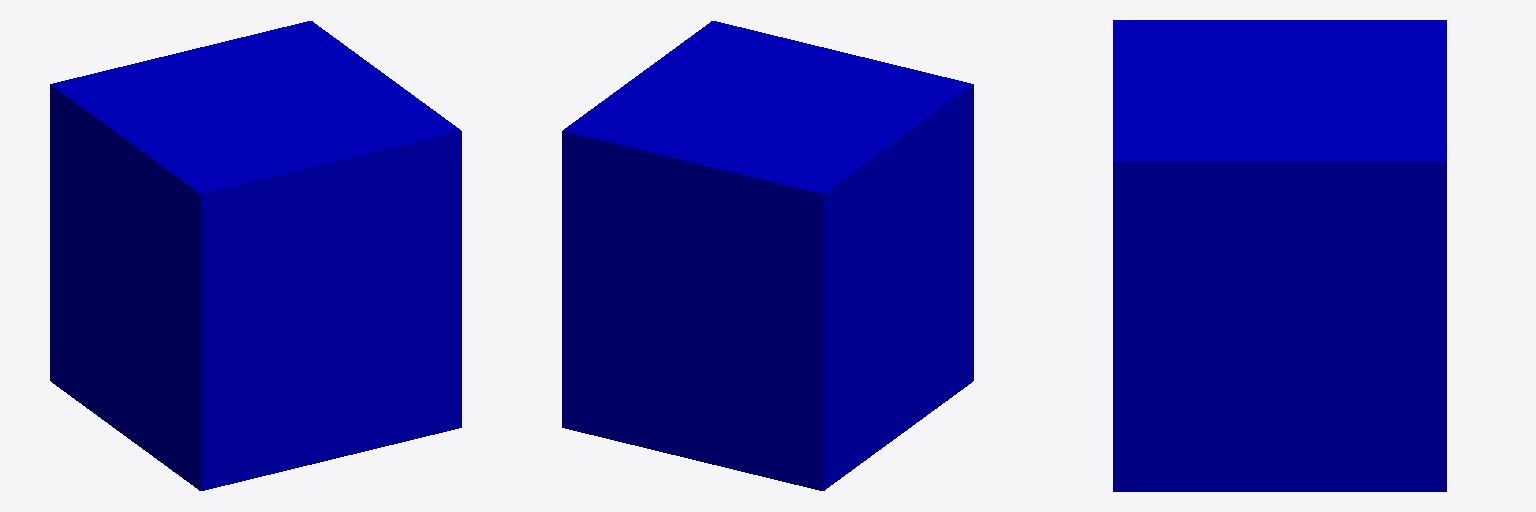
The robot description file, URDF, robot "issue838":
<?xml version="1.0" ?>

<robot name="issue838">
  <!-- end of arm links/joints -->
  <material name="Blue">
    <color rgba="0 0 0.8 1"/>
  </material>
  <material name="Red">
    <color rgba="1 0 0 1"/>
  </material>
  <material name="Yellow">
    <color rgba="1 1 0 1"/>
  </material>

  <link name="link_0">
    <inertial>
      <origin rpy="0 0 0" xyz="0 0 0"/>
      <mass value="10.0"/>
      <inertia ixx="0.1" ixy="0" ixz="0" iyy="0.1" iyz="0" izz="0.1"/>
    </inertial>
    <visual>
      <origin rpy="0 0 0" xyz="0 0 -0.087"/>
      <geometry>
        <box size="1 1 1"/>
      </geometry>
      <material name="Blue"/>
    </visual>
    <visual>
      <origin rpy="0 0 0" xyz="0 0 0"/>
      <geometry>
        <box size="1 1 1"/>
      </geometry>
      <material name="Blue"/>
    </visual>
  </link>
  <joint name="0_to_1" type="fixed">
    <parent link="link_0"/>
    <child link="link_1"/>
    <origin rpy="0 0 0" xyz="0 0 0"/>
  </joint>
  <link name="link_1">
    <visual>
      <origin rpy="0 0 0" xyz="0 0 -0.087"/>
      <geometry>
        <box size="1 1 1"/>
      </geometry>
      <material name="Red"/>
    </visual>
    <visual>
      <origin rpy="0 0 0" xyz="0 0 0"/>
      <geometry>
        <box size="1 1 1"/>
      </geometry>
      <material name="Red"/>
    </visual>
  </link>
  <joint name="1_to_2" type="revolute">
    <parent link="link_1"/>
    <child link="link_2"/>
    <limit effort="2.5" lower="-3.14159265359" upper="3.14159265359" velocity="3.00545697193"/>
    <origin rpy="0 0 0" xyz="0 0 0"/>
    <axis xyz="0 0 1"/>
  </joint>
  <link name="link_2">
    <inertial>
      <origin rpy="0 0 0" xyz="0 0 0"/>
      <mass value="0.855"/>
      <inertia ixx="0.001449225" ixy="0" ixz="0" iyy="0.00041553" iyz="0" izz="0.001449225"/>
    </inertial>
    <visual>
      <origin rpy="0 0 0" xyz="0 0 0"/>
      <geometry>
        <box size="1 1 1"/>
      </geometry>
      <material name="Yellow"/>
    </visual>
    <visual>
      <origin rpy="0 0 0" xyz="0 0 0"/>
      <geometry>
        <box size="1 1 1"/>
      </geometry>
      <material name="Yellow"/>
    </visual>
  </link>
  
</robot>

--- Facts derived from the render (not from the file) ---
The picture shows the robot from 3 angles, left to right: view 1: azimuth 30°, elevation 25°; view 2: azimuth 150°, elevation 25°; view 3: azimuth 270°, elevation 25°; orthographic projection.
Robot: issue838 — 3 links, 2 joints (1 revolute, 1 fixed); root link link_0; default pose: every joint at zero.
Links seen in each view (by area): view 1: link_0; view 2: link_0; view 3: link_0.
Boxes of the visible links, box(x1,y1,x2,y2) form: link_0: box(50, 21, 461, 490); link_0: box(562, 21, 973, 490); link_0: box(1113, 20, 1446, 491).
Size in the robot's own frame: 1 by 1 by 1.09 metres.
Geometry: primitives only (box / cylinder / sphere), no mesh files.